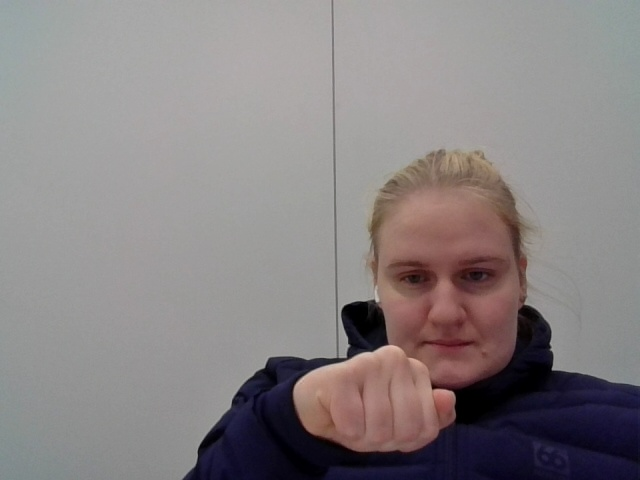down: (267, 337, 464, 480)
